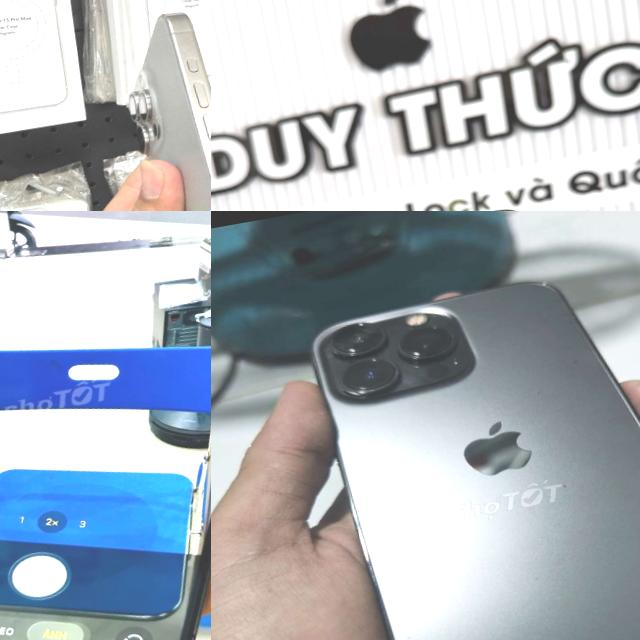gen_12_13: (296, 243, 640, 640)
gen_15: (0, 211, 211, 640), (86, 0, 211, 211)
